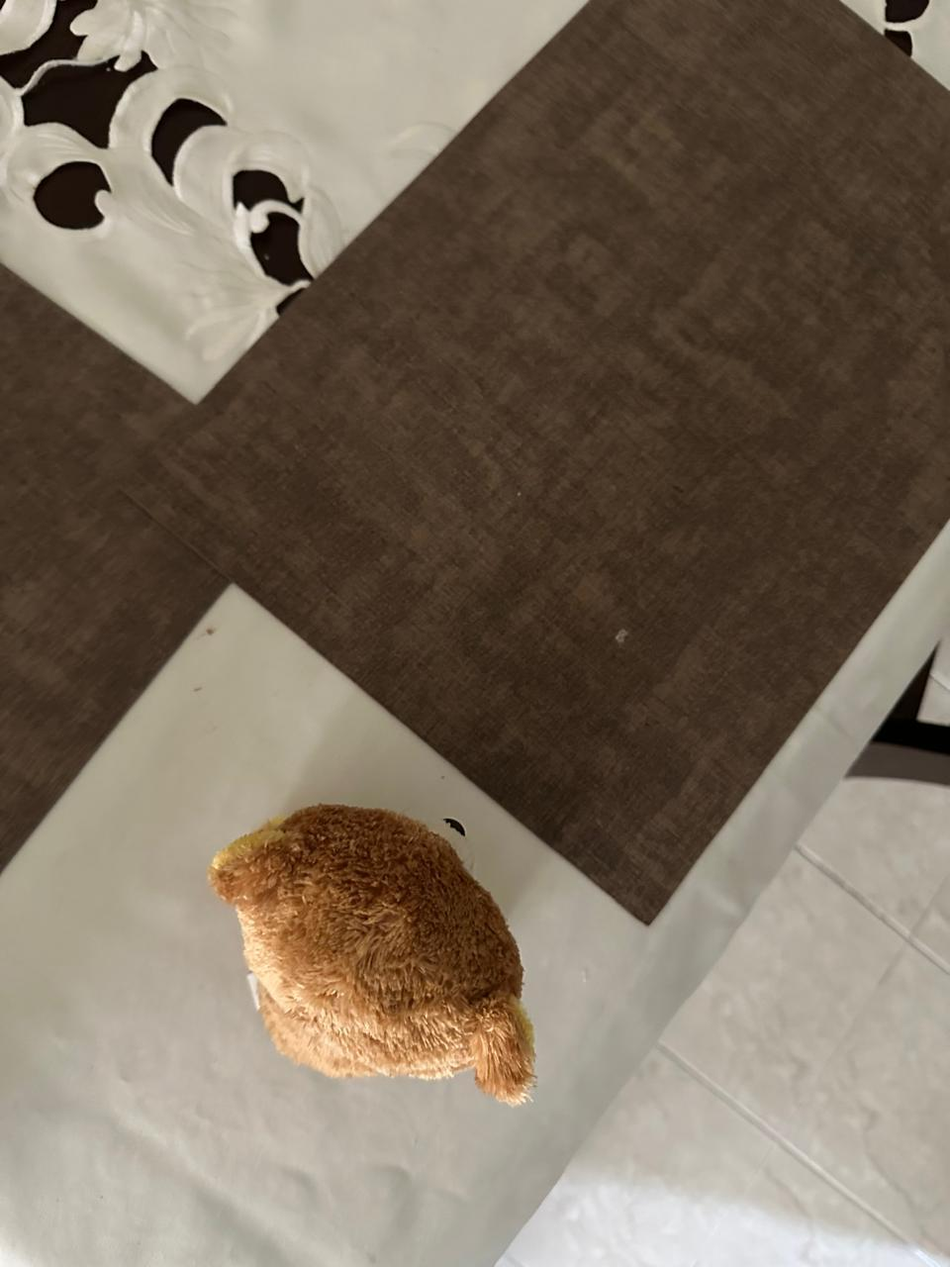peluche_sebastian: (198, 797, 542, 1121)
